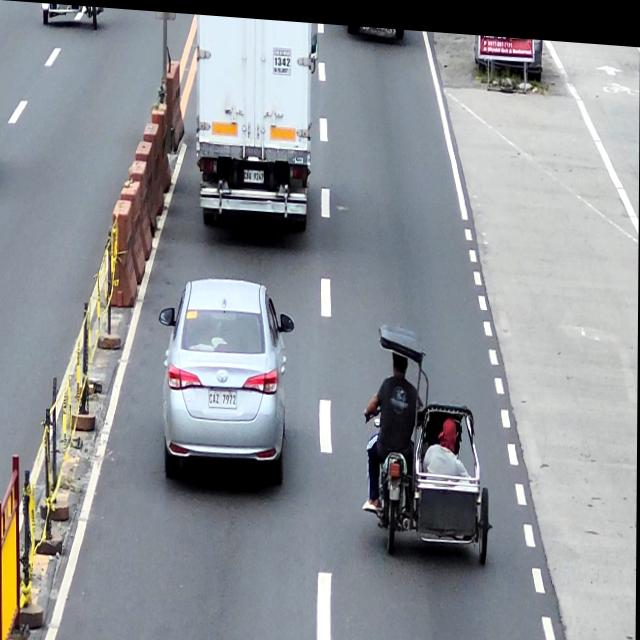Car: (159, 270, 296, 486)
License-Plate: (209, 385, 238, 407), (243, 165, 265, 180)
Tricycle: (369, 320, 491, 559)
Truck: (194, 11, 319, 230)
